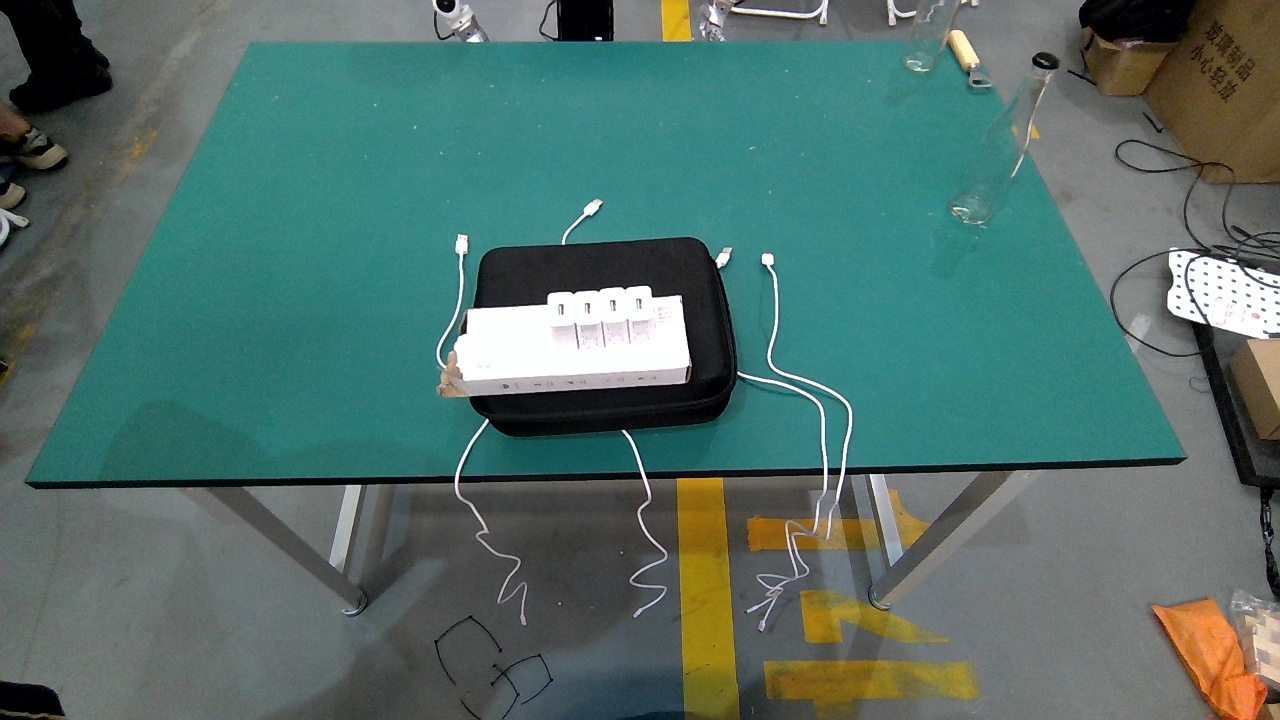usb_a_port: (673, 504, 695, 517), (789, 517, 812, 529), (790, 556, 812, 568), (732, 512, 755, 523), (733, 548, 754, 560), (673, 540, 697, 550)
